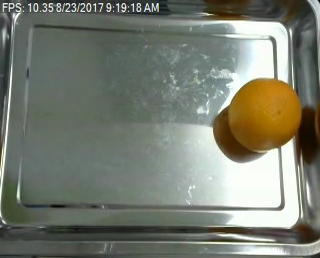Orange: (227, 77, 301, 151)
